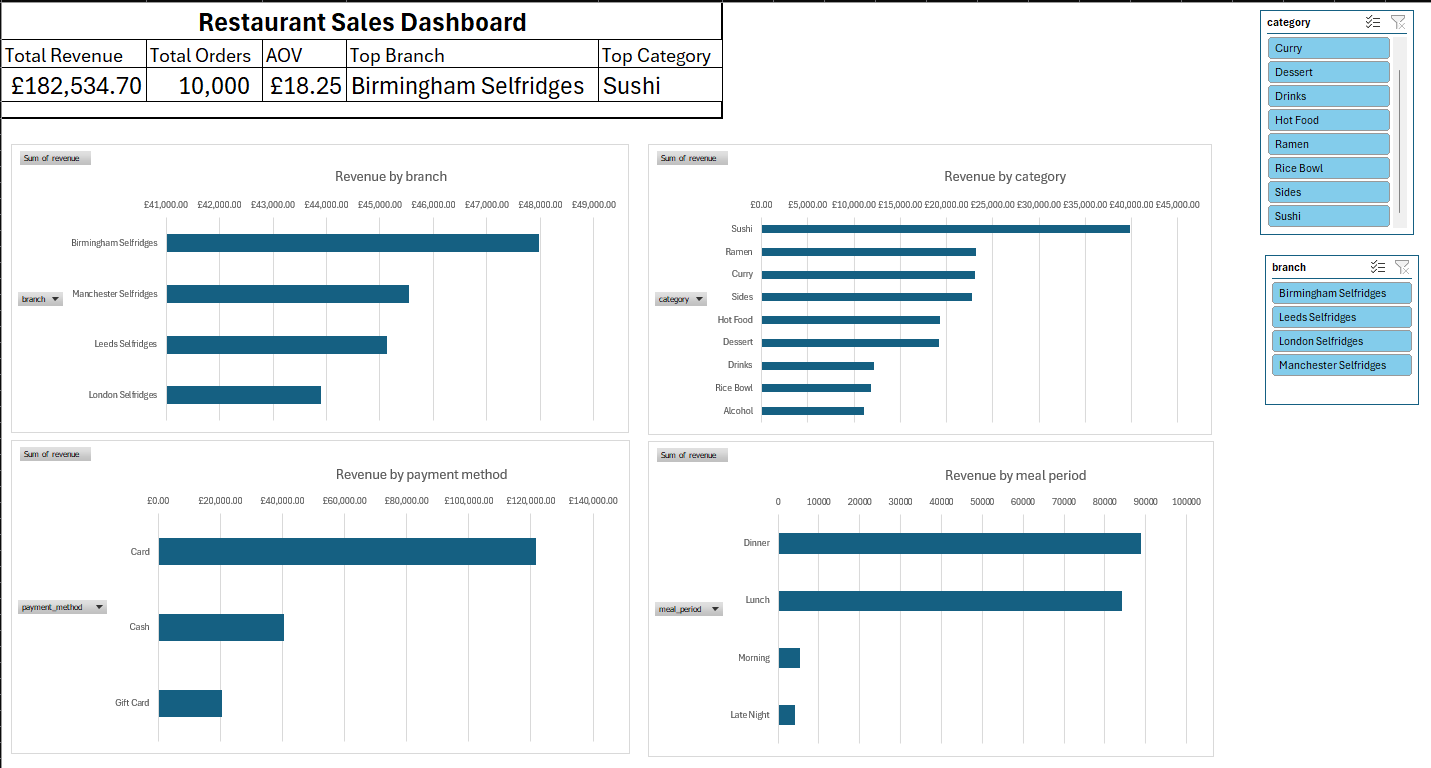

The dashboard page shown, as its layout file describes it:
{"tool":"powerbi","page":{"name":"Executive summary","canvas":[1280,720],"ordinal":0},"visuals":[{"type":"cardVisual","fields":{"Data":["Sum(sales_transactions.revenue)"]},"box":[15.2,82.8,241.7,134.4],"z":0},{"type":"cardVisual","fields":{"Data":["CountNonNull(sales_transactions.order_id)"]},"box":[258.4,82.8,233.2,134.4],"z":1000},{"type":"cardVisual","fields":{"Data":["sales_transactions.AOV"]},"box":[493.1,82.8,190.1,131],"z":2000},{"type":"clusteredBarChart","title":"Revenue by branch","fields":{"Category":["sales_transactions.branch"],"Y":["Sum(sales_transactions.revenue)"]},"box":[7.8,438.7,560.2,260.7],"z":3000},{"type":"clusteredBarChart","title":"Revenue by category","fields":{"Category":["sales_transactions.category"],"Y":["Sum(sales_transactions.revenue)"]},"box":[677,421.2,527.2,294.7],"z":4000},{"type":"cardVisual","fields":{"Data":["sales_transactions.Top Branch"]},"box":[878.9,82.8,391.3,131],"z":5000},{"type":"slicer","fields":{"Values":["sales_transactions.branch"]},"box":[1033.3,233.7,223.4,149.2],"z":6000},{"type":"slicer","fields":{"Values":["sales_transactions.category"]},"box":[864.7,233.4,135.2,149.8],"z":7000},{"type":"cardVisual","fields":{"Data":["sales_transactions.Top Category"]},"box":[684.7,82.8,192.7,131],"z":8000},{"type":"clusteredBarChart","title":"Revenue by payment method","fields":{"Category":["sales_transactions.payment_method"],"Y":["Sum(sales_transactions.revenue)"]},"box":[21.4,227.6,376.4,160.5],"z":9000},{"type":"clusteredBarChart","title":"Revenue by meal period","fields":{"Category":["sales_transactions.meal_period"],"Y":["Sum(sales_transactions.revenue)"]},"box":[459.1,227.6,374.5,160.5],"z":10000},{"type":"cardVisual","fields":{"Data":["sales_transactions.Dashboard Title"]},"box":[245.9,0,861.1,82.8],"z":11000}]}

Visuals, with their boxes on the page's 1280x720 design canvas (x1, y1, x2, y2). These are canvas units, not pixel positions in the 1431x768 screenshot, which may show the page scaled, cropped or inside an application window:
cardVisual - Sum(sales_transactions.revenue): {"left": 15, "top": 83, "right": 257, "bottom": 217}
cardVisual - CountNonNull(sales_transactions.order_id): {"left": 258, "top": 83, "right": 492, "bottom": 217}
cardVisual - sales_transactions.AOV: {"left": 493, "top": 83, "right": 683, "bottom": 214}
"Revenue by branch" clusteredBarChart: {"left": 8, "top": 439, "right": 568, "bottom": 699}
"Revenue by category" clusteredBarChart: {"left": 677, "top": 421, "right": 1204, "bottom": 716}
cardVisual - sales_transactions.Top Branch: {"left": 879, "top": 83, "right": 1270, "bottom": 214}
slicer - sales_transactions.branch: {"left": 1033, "top": 234, "right": 1257, "bottom": 383}
slicer - sales_transactions.category: {"left": 865, "top": 233, "right": 1000, "bottom": 383}
cardVisual - sales_transactions.Top Category: {"left": 685, "top": 83, "right": 877, "bottom": 214}
"Revenue by payment method" clusteredBarChart: {"left": 21, "top": 228, "right": 398, "bottom": 388}
"Revenue by meal period" clusteredBarChart: {"left": 459, "top": 228, "right": 834, "bottom": 388}
cardVisual - sales_transactions.Dashboard Title: {"left": 246, "top": 0, "right": 1107, "bottom": 83}
